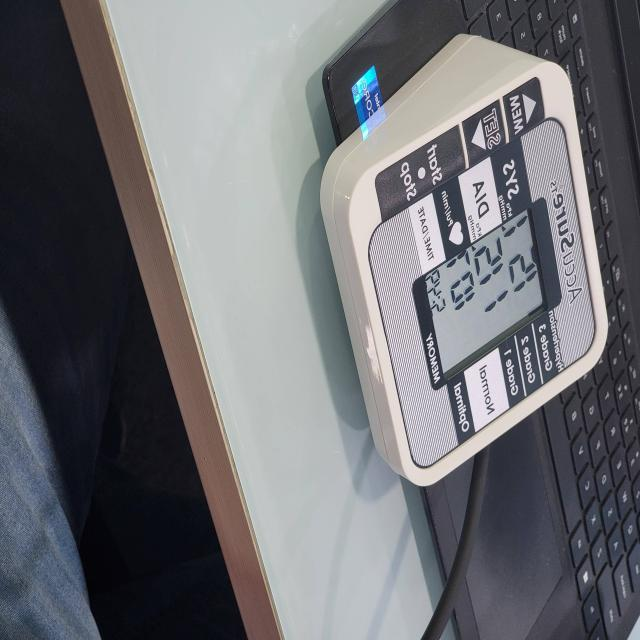bp: (321, 36, 610, 490)
